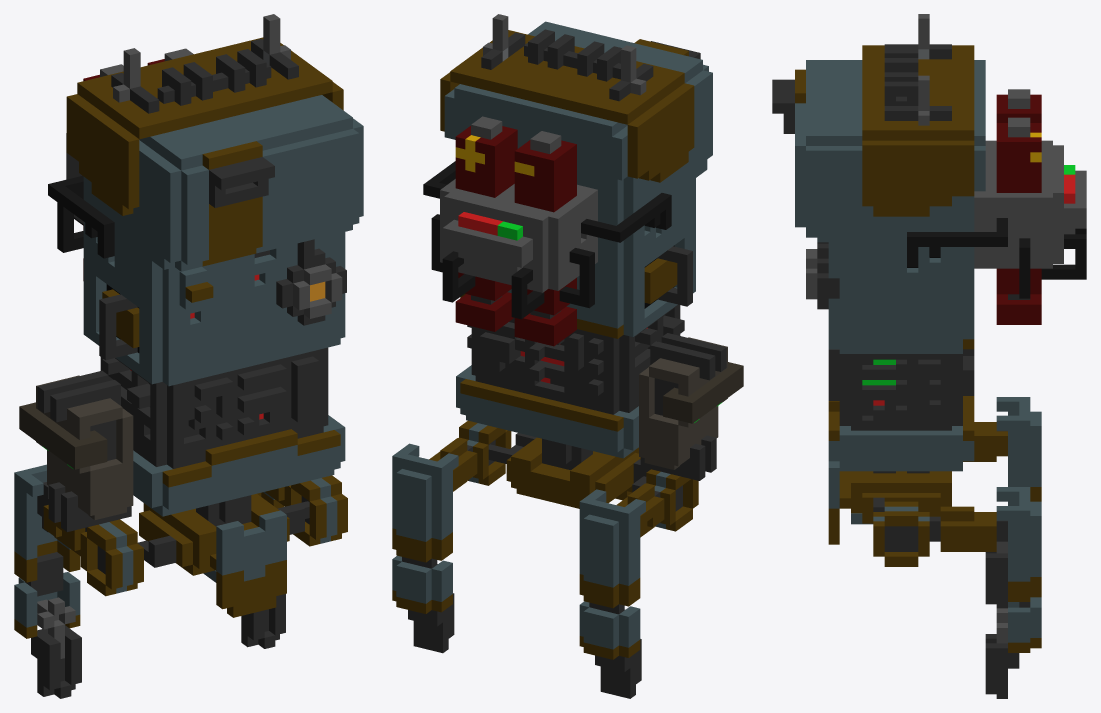
File: ReconBot.glb
The picture shows the model from 3 angles, left to right: view 1: azimuth 30°, elevation 25°; view 2: azimuth 150°, elevation 25°; view 3: azimuth 270°, elevation 25°; orthographic projection. The views are drawn at different scales.
Parts seen in each view (by area): view 1: Mesh_0; view 2: Mesh_0; view 3: Mesh_0.
Boxes of the visible parts, left/top/right/bottom form: Mesh_0: left=14, top=14, right=363, bottom=698; Mesh_0: left=392, top=14, right=743, bottom=698; Mesh_0: left=772, top=14, right=1086, bottom=698.
Size of the model in its own units: 0.9153 by 2 by 0.9492.
